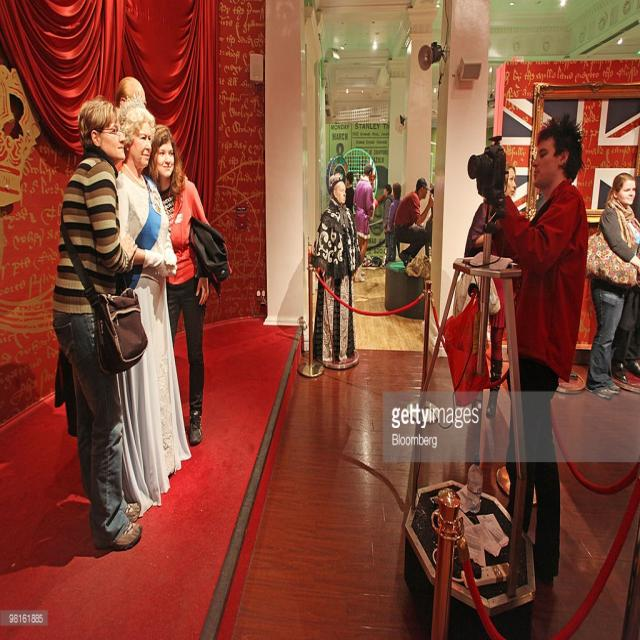body: (481, 107, 591, 606), (49, 93, 144, 553), (142, 121, 235, 449), (115, 91, 189, 501), (462, 158, 524, 418), (582, 163, 639, 404), (582, 167, 639, 403), (304, 168, 363, 368), (608, 172, 640, 388), (393, 176, 435, 270), (352, 162, 379, 286), (114, 70, 149, 110), (387, 181, 403, 263), (381, 184, 395, 268), (425, 183, 436, 264), (345, 170, 356, 216)
